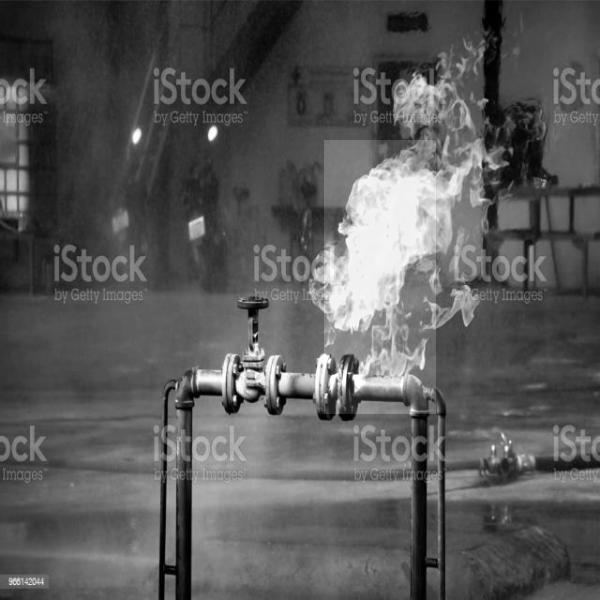leak: (324, 140, 436, 414)
